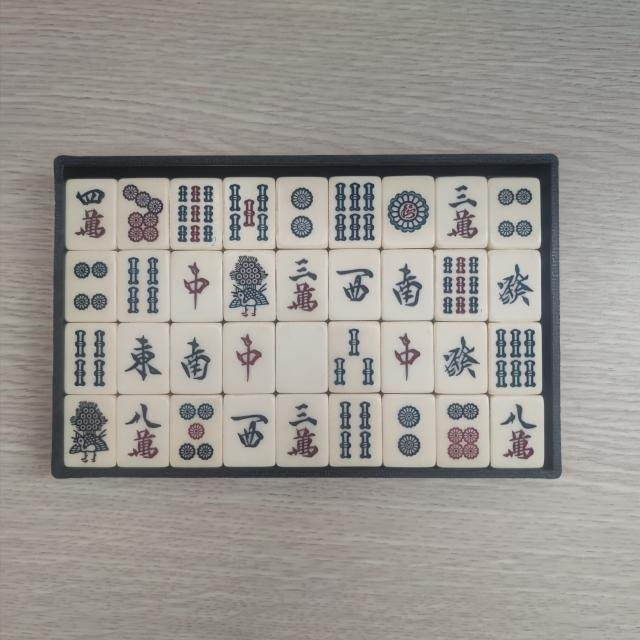hdg: (495, 255, 537, 317), (440, 328, 483, 388)
hdr: (176, 255, 216, 317), (388, 326, 428, 388), (230, 326, 270, 388)
hdw: (283, 326, 323, 388)
hwe: (121, 328, 166, 390)
hws: (386, 254, 427, 316), (175, 328, 216, 389)
hww: (334, 253, 376, 316), (230, 399, 272, 462)
sb1: (67, 398, 111, 464), (228, 254, 272, 319)
sb3: (333, 326, 378, 389)
sb4: (70, 327, 112, 390), (123, 254, 165, 317), (336, 397, 376, 462)
sb5: (229, 181, 274, 245)
sb6: (494, 327, 540, 390), (333, 180, 377, 244)
sb9: (440, 253, 482, 317), (176, 182, 218, 245)
sc3: (282, 253, 324, 316), (283, 399, 324, 462), (441, 182, 482, 244)
sc4: (70, 183, 111, 244)
sc8: (497, 400, 541, 463), (120, 400, 164, 462)
sd1: (388, 182, 432, 244)
sd2: (391, 399, 432, 463), (281, 182, 322, 245)
sd4: (494, 183, 536, 244), (70, 255, 110, 318)
sd5: (177, 399, 219, 464)
sd6: (443, 399, 483, 463)
sd7: (121, 182, 166, 246)
